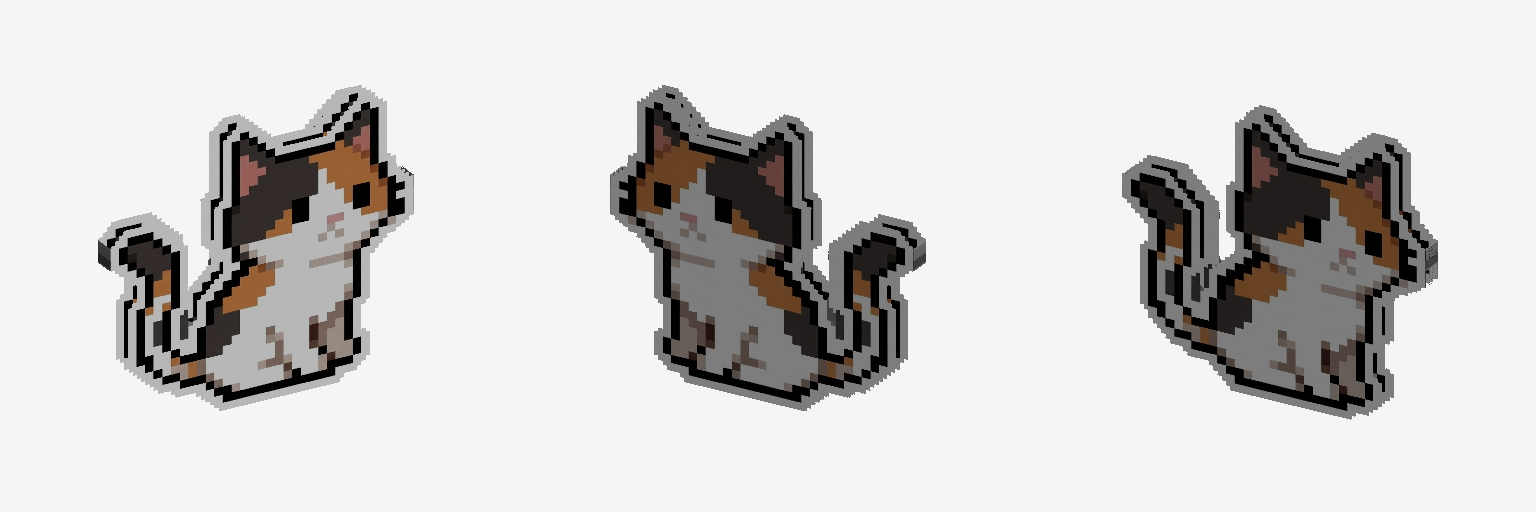
3 renders of one model, left to right at view 1: azimuth 30°, elevation 25°; view 2: azimuth 150°, elevation 25°; view 3: azimuth 330°, elevation 25°, orthographic.
Visible parts, largest first — view 1: cat1; view 2: cat1; view 3: cat1.
Boxes of the visible parts, box(x1,y1,x2,y2) form: cat1: box(98, 85, 413, 410); cat1: box(610, 85, 925, 410); cat1: box(1122, 105, 1437, 419).
Size of the model in its own units: 1.12 by 1 by 0.0775.
Materials: 2 (2 with a texture image).